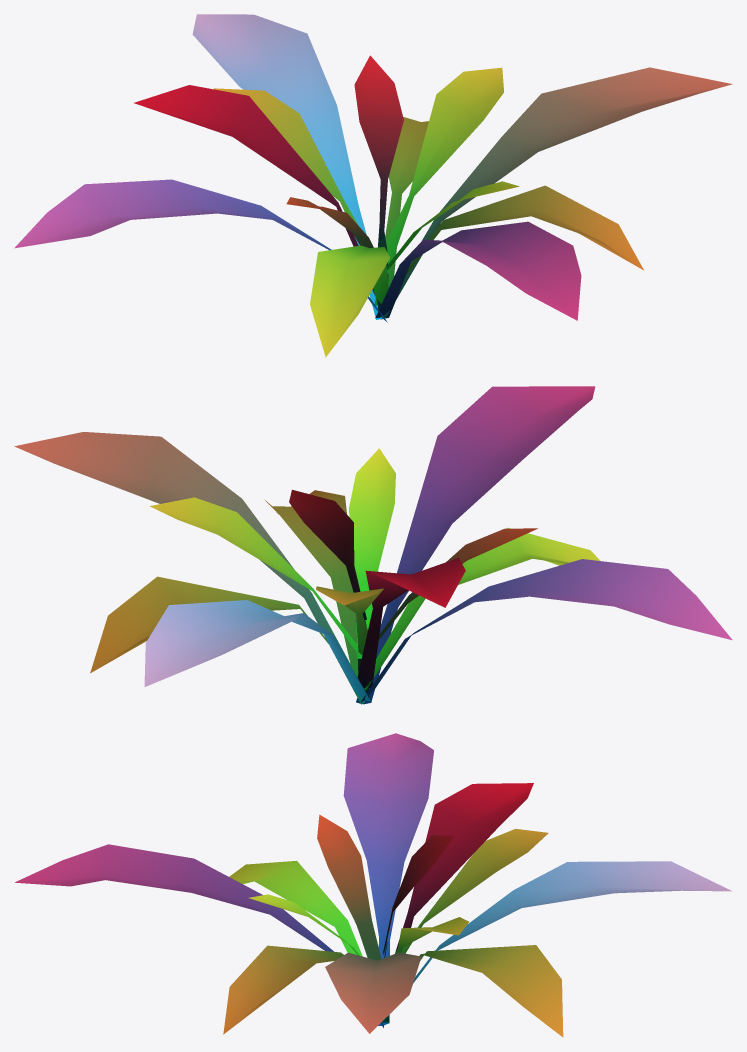
Rendered from Curbside_Weeds_ujzjfexja_Mid_ujzjfexja_VarH_LOD0.fbx.
The picture shows the model from 3 angles, top to bottom: view 1: azimuth 30°, elevation 25°; view 2: azimuth 150°, elevation 25°; view 3: azimuth 270°, elevation 25°; orthographic projection. The views are drawn at different scales.
Visible parts, largest first — view 1: _t5ax_VarH_LOD1; view 2: _t5ax_VarH_LOD1; view 3: _t5ax_VarH_LOD1.
Part boxes in pixels (bbox=[...]): _t5ax_VarH_LOD1: bbox=[14, 14, 732, 357]; _t5ax_VarH_LOD1: bbox=[14, 386, 732, 704]; _t5ax_VarH_LOD1: bbox=[15, 733, 732, 1037].
Bounding box in the file's own units: 27.15 × 8.4 × 27.15.
